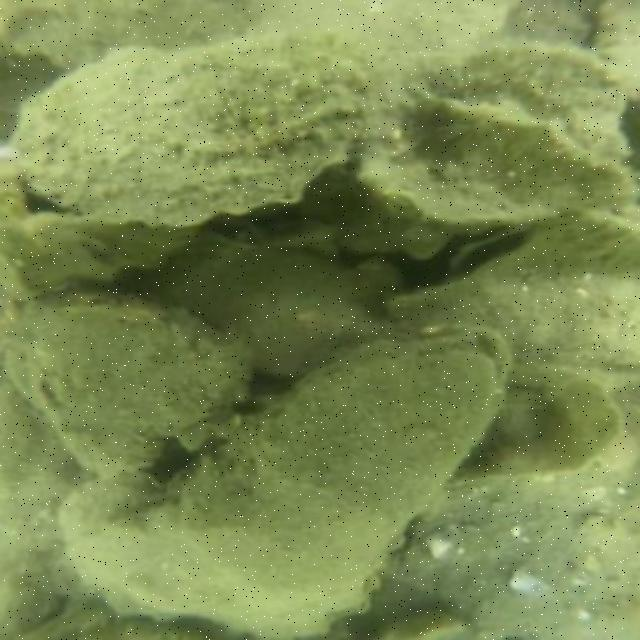Oyster-Closed: (134, 332, 520, 629), (0, 28, 467, 236), (55, 471, 339, 638), (351, 85, 638, 234), (11, 293, 249, 469), (396, 217, 633, 390), (156, 242, 383, 376), (446, 359, 631, 486), (460, 38, 635, 167)
Oyster-Open: (446, 216, 550, 282)
